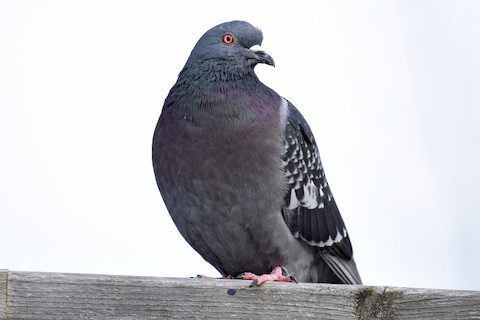pigeon: (149, 17, 366, 288)
